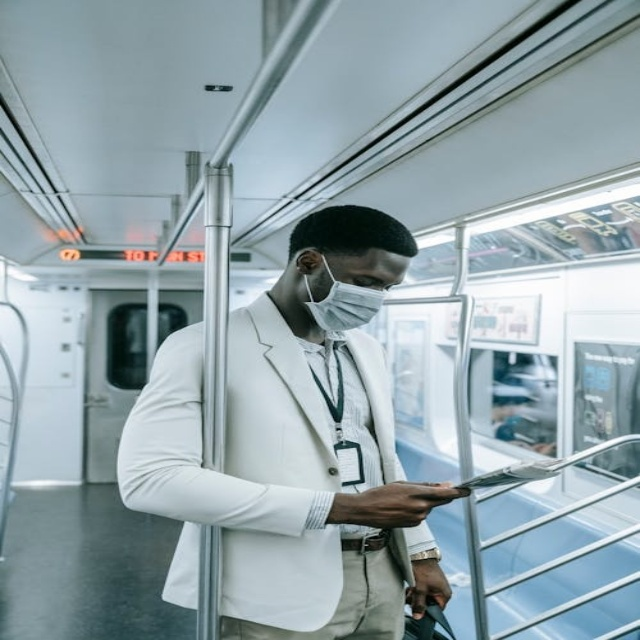Mascara: (300, 253, 388, 332)
Sin_gafas: (333, 263, 403, 292)
Sin_guantes: (344, 480, 468, 529), (402, 559, 452, 612)
